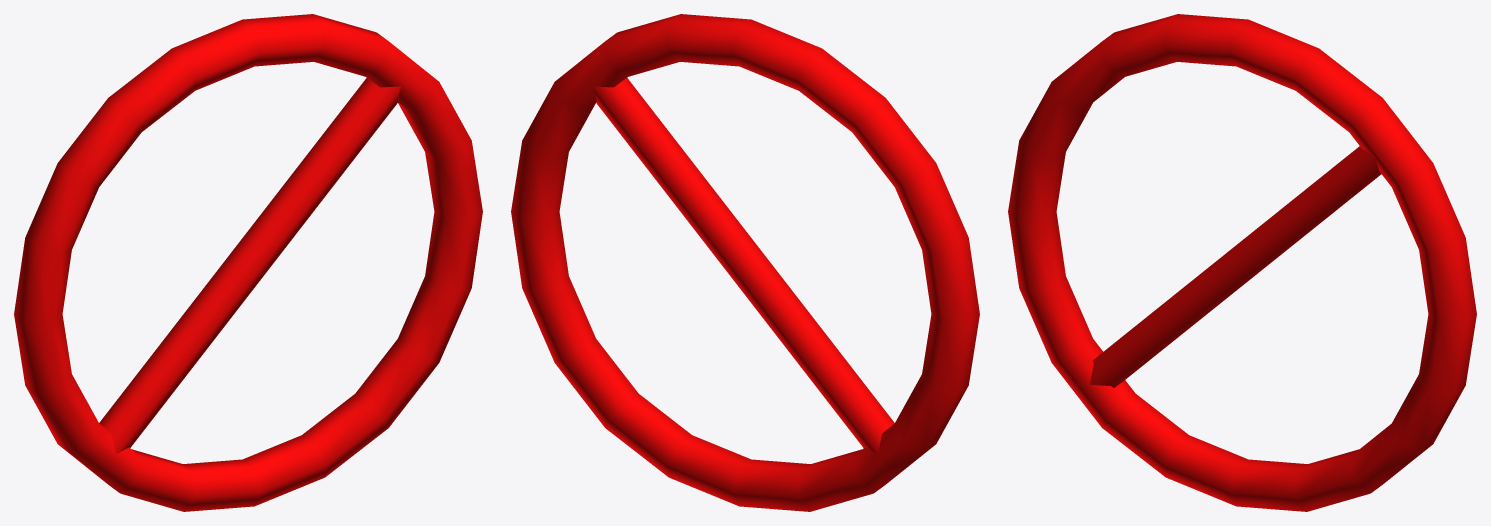
Rendered from NOfx.fbx.
3 views of the same model, side by side, from view 1: azimuth 30°, elevation 25°; view 2: azimuth 150°, elevation 25°; view 3: azimuth 330°, elevation 25° (orthographic).
Visible parts, largest first — view 1: noMesh; view 2: noMesh; view 3: noMesh.
Boxes of the visible parts, <box> form: noMesh: <box>14,14,482,511</box>; noMesh: <box>511,14,979,511</box>; noMesh: <box>1008,14,1476,511</box>.
Size of the model in its own units: 32.6 by 32.6 by 3.
Materials: 1 (1 with a texture image).
